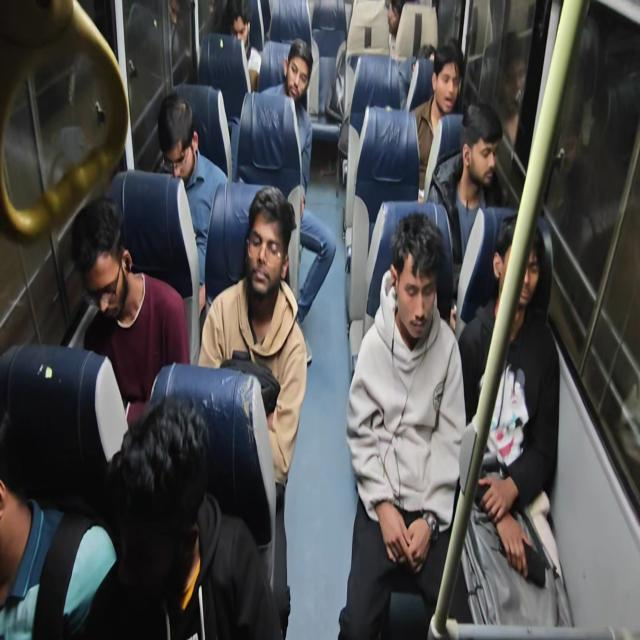person: (143, 383, 275, 640), (463, 225, 590, 431), (0, 415, 100, 634), (200, 173, 324, 338), (72, 228, 178, 412), (140, 97, 270, 215), (377, 224, 469, 381), (432, 50, 493, 158), (271, 32, 329, 116), (464, 109, 508, 204), (221, 0, 268, 41), (386, 7, 418, 46)
